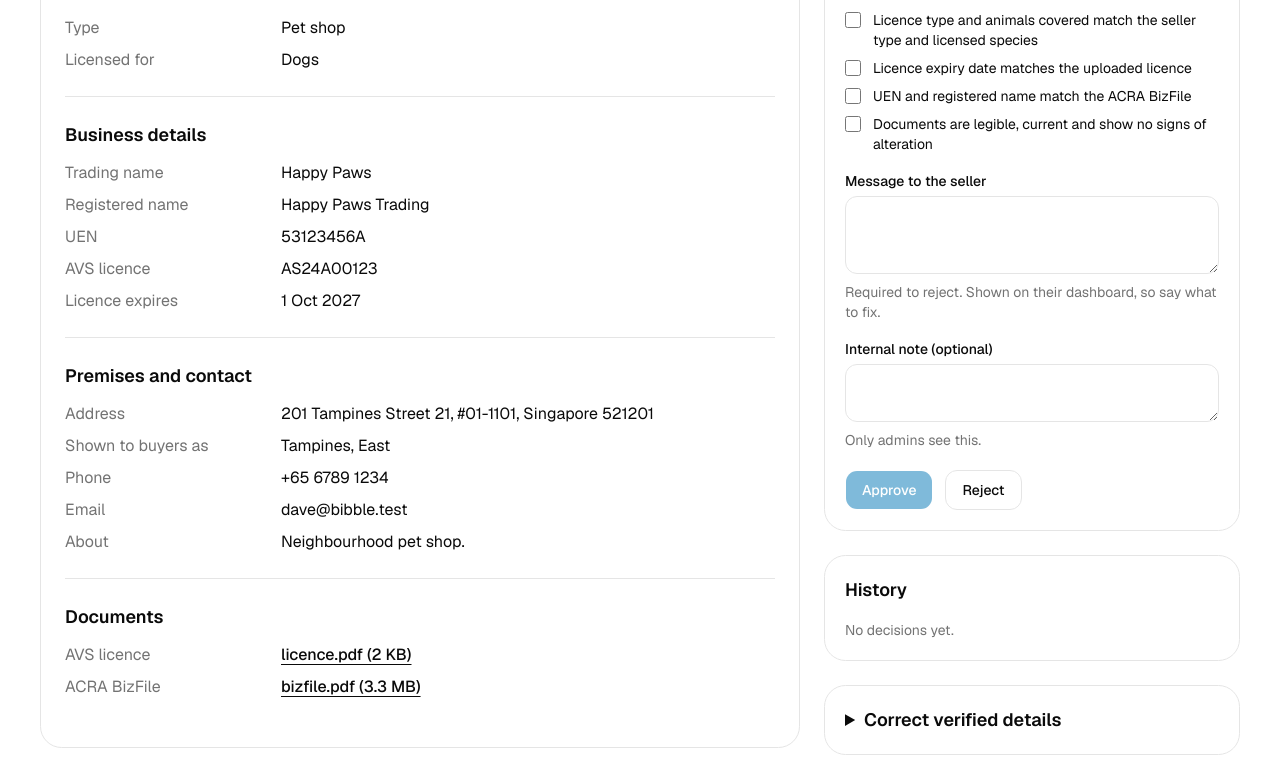
Scenario: Seller review page › shows decision errors
(page scrolled)
Click the button "Reject". click: [984, 490]
box: [946, 470, 1022, 510]
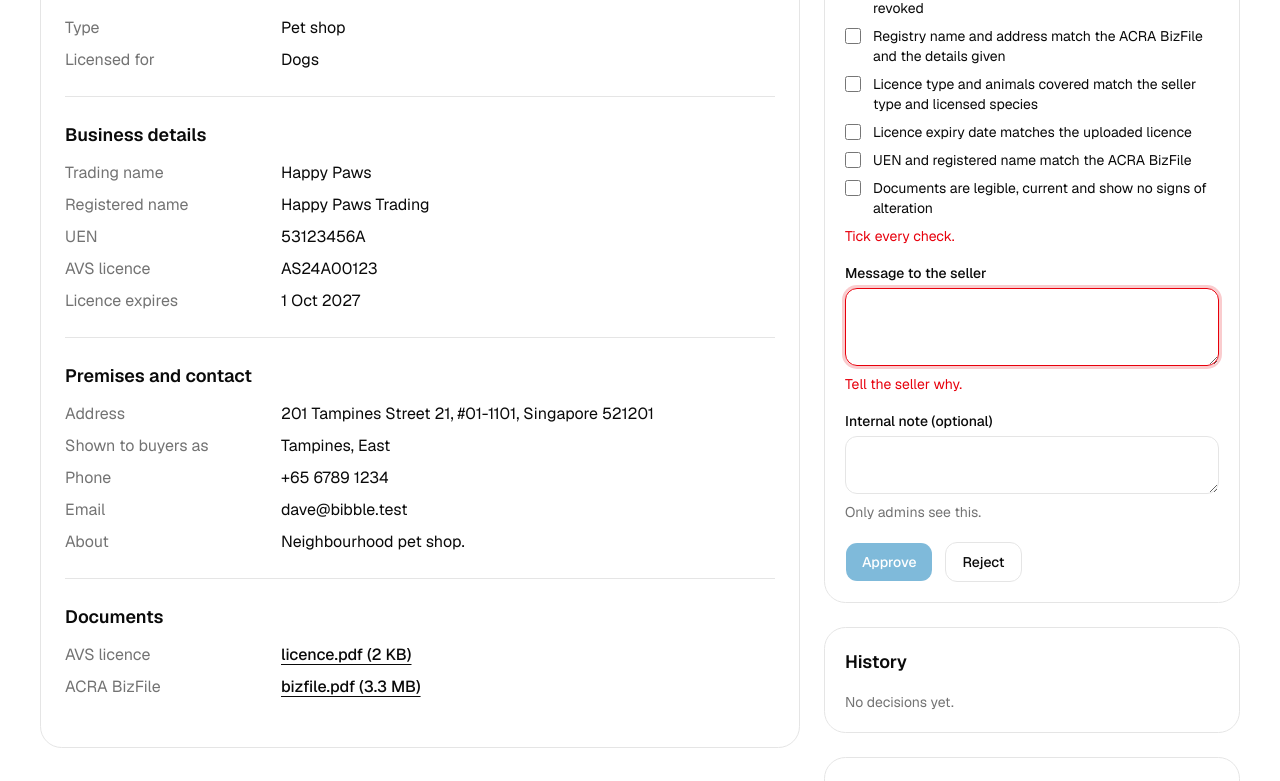
Check: the text "Tick every check." is shown, box [845, 227, 955, 245]
